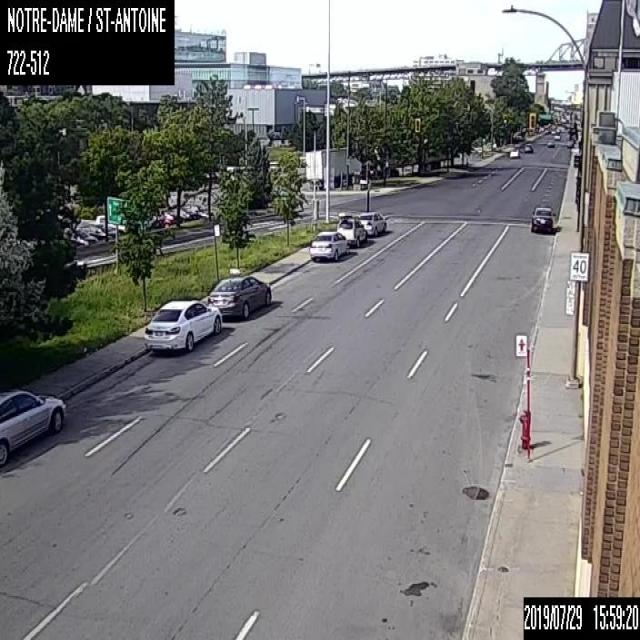vehicle: (0, 387, 65, 465), (144, 298, 222, 350), (206, 274, 272, 320), (305, 146, 355, 190), (310, 230, 348, 260), (336, 212, 367, 247), (80, 213, 126, 233), (359, 210, 387, 234), (531, 205, 554, 231), (87, 221, 118, 237), (68, 228, 98, 244), (80, 225, 106, 241), (150, 209, 174, 226), (167, 208, 189, 222), (181, 206, 198, 219), (509, 147, 519, 158), (524, 142, 533, 152), (546, 138, 554, 146)
